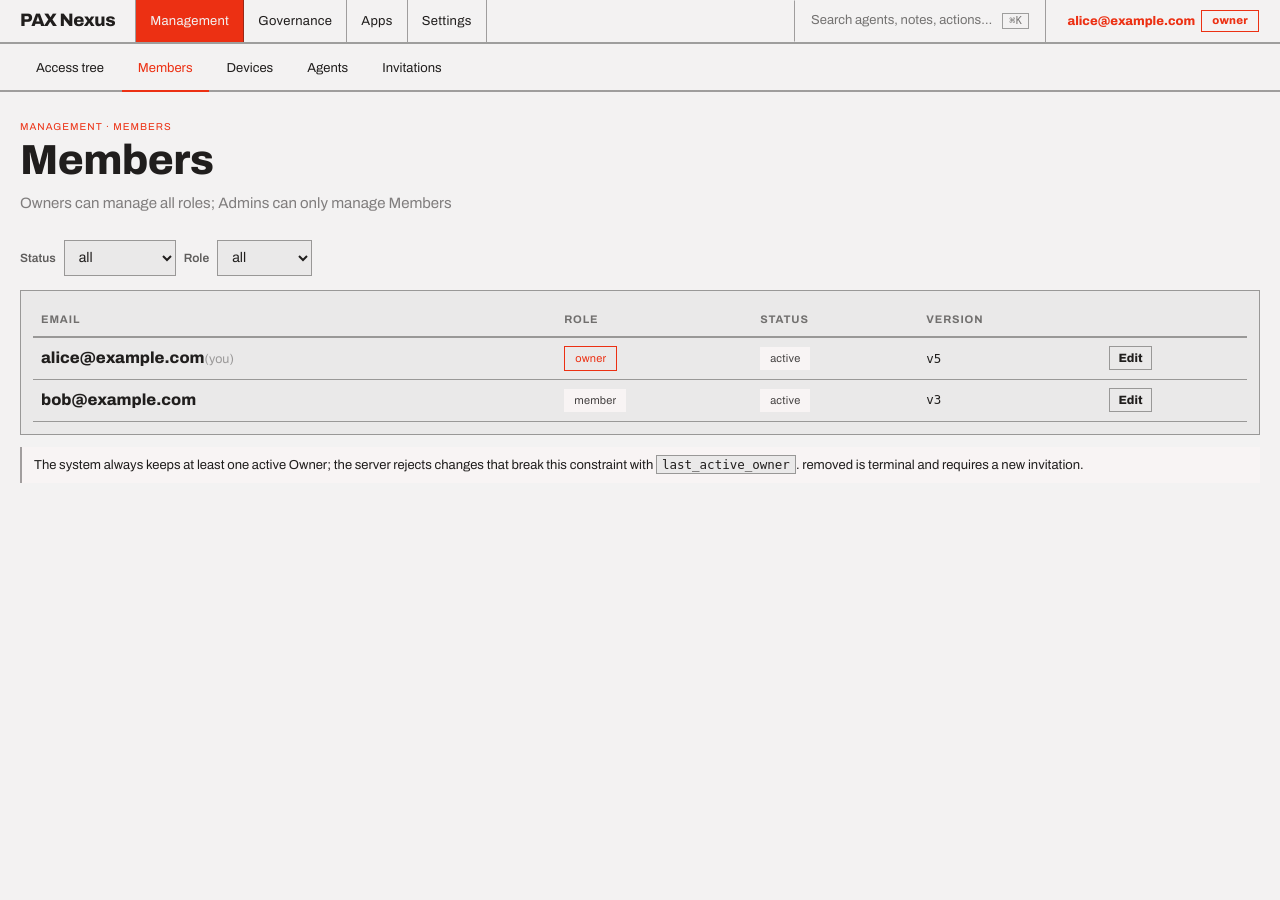
Test: section 10 item 8: last active owner protection › keeps the form and shows the server-side last_active_owner prompt
The width and height of the screenshot is (1280, 900).
Expected: the text "last_active_owner" is shown, [656, 455, 796, 474]
Click the button "Edit" in the row of "(you)": (1131, 358) [1110, 346, 1152, 370]
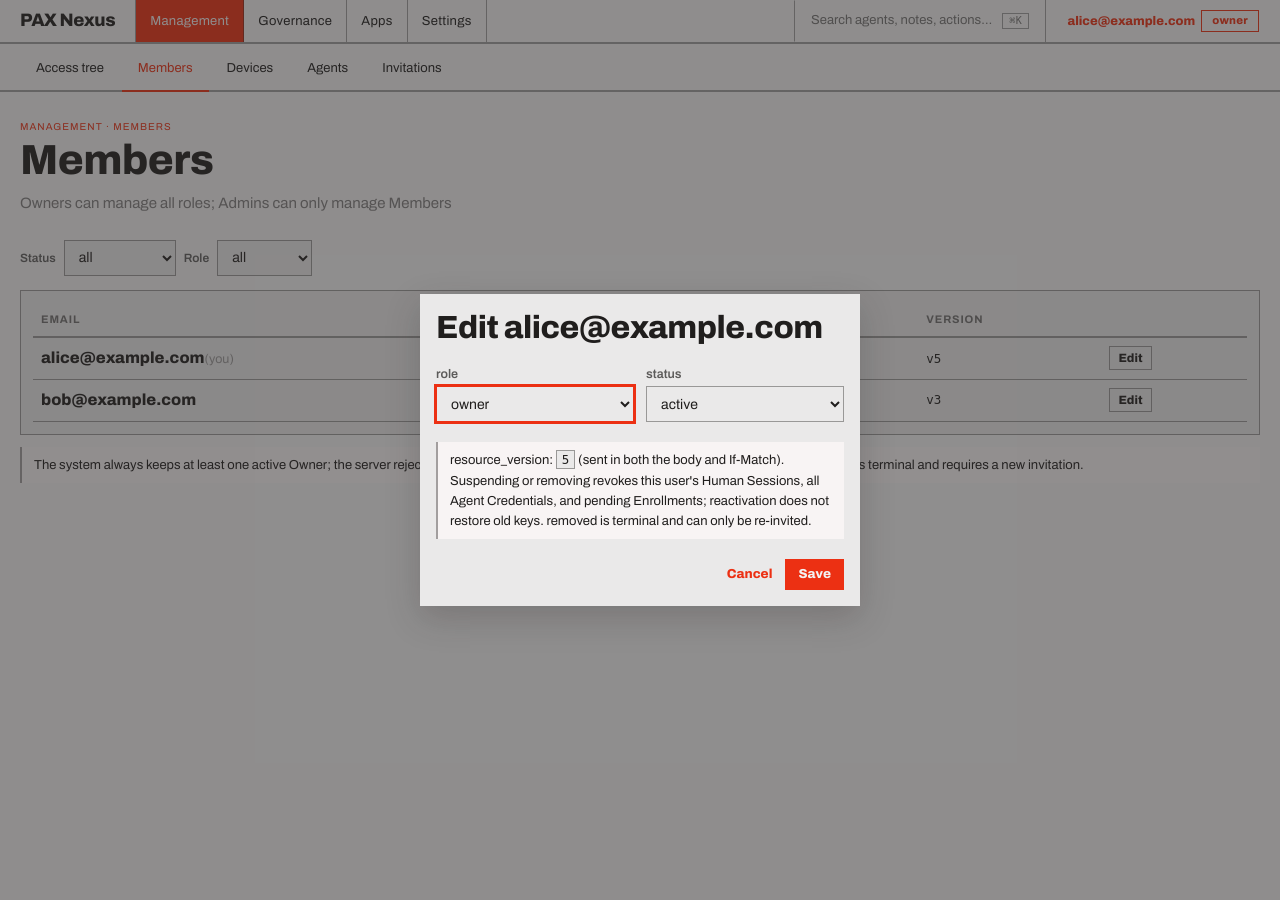
Now the heading "Edit alice@example.com" is shown, box [436, 310, 844, 346]
Select "admin" in the dropdown labelled "role": (535, 404) [436, 386, 634, 422]
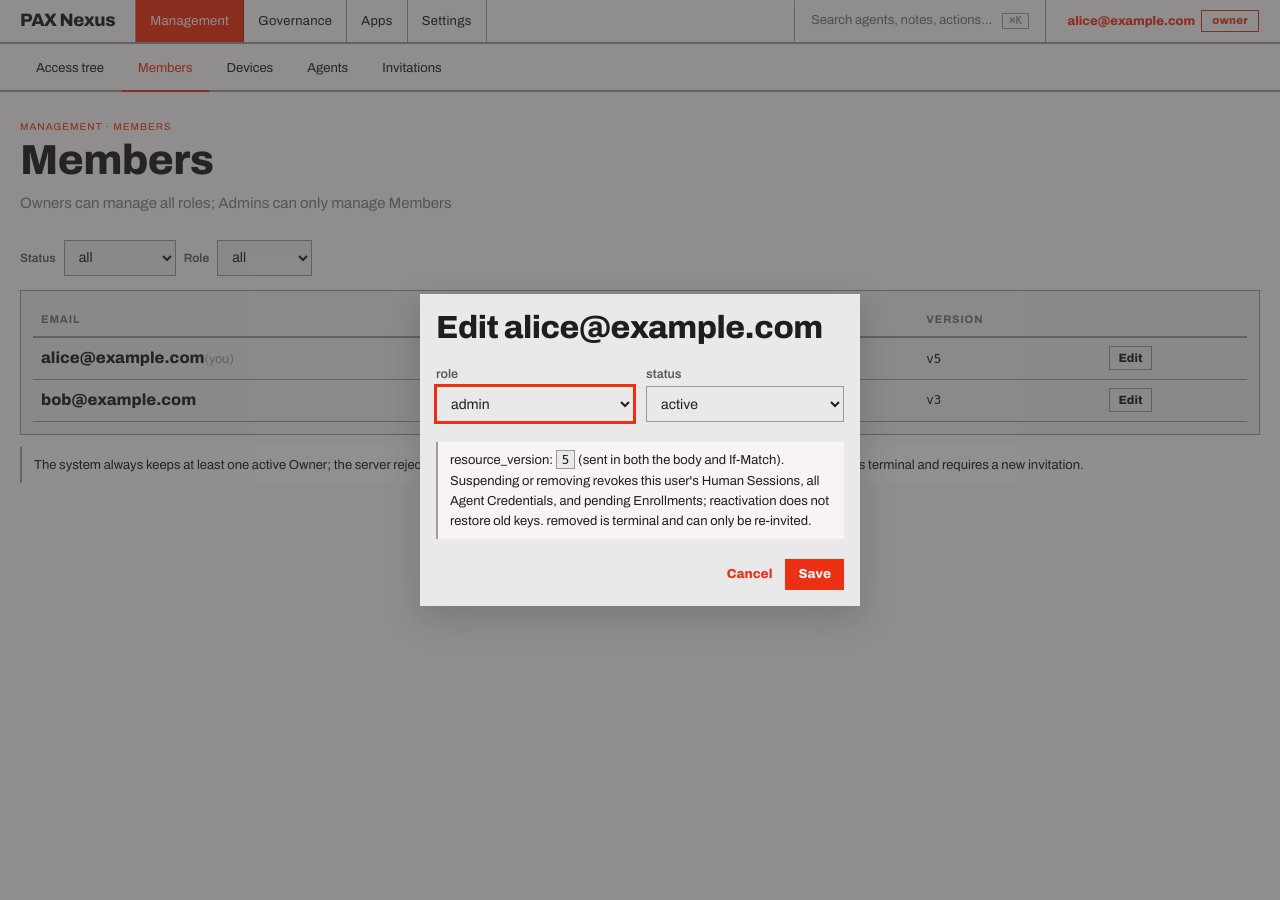
Click the button "Save": (815, 575) [785, 559, 844, 590]
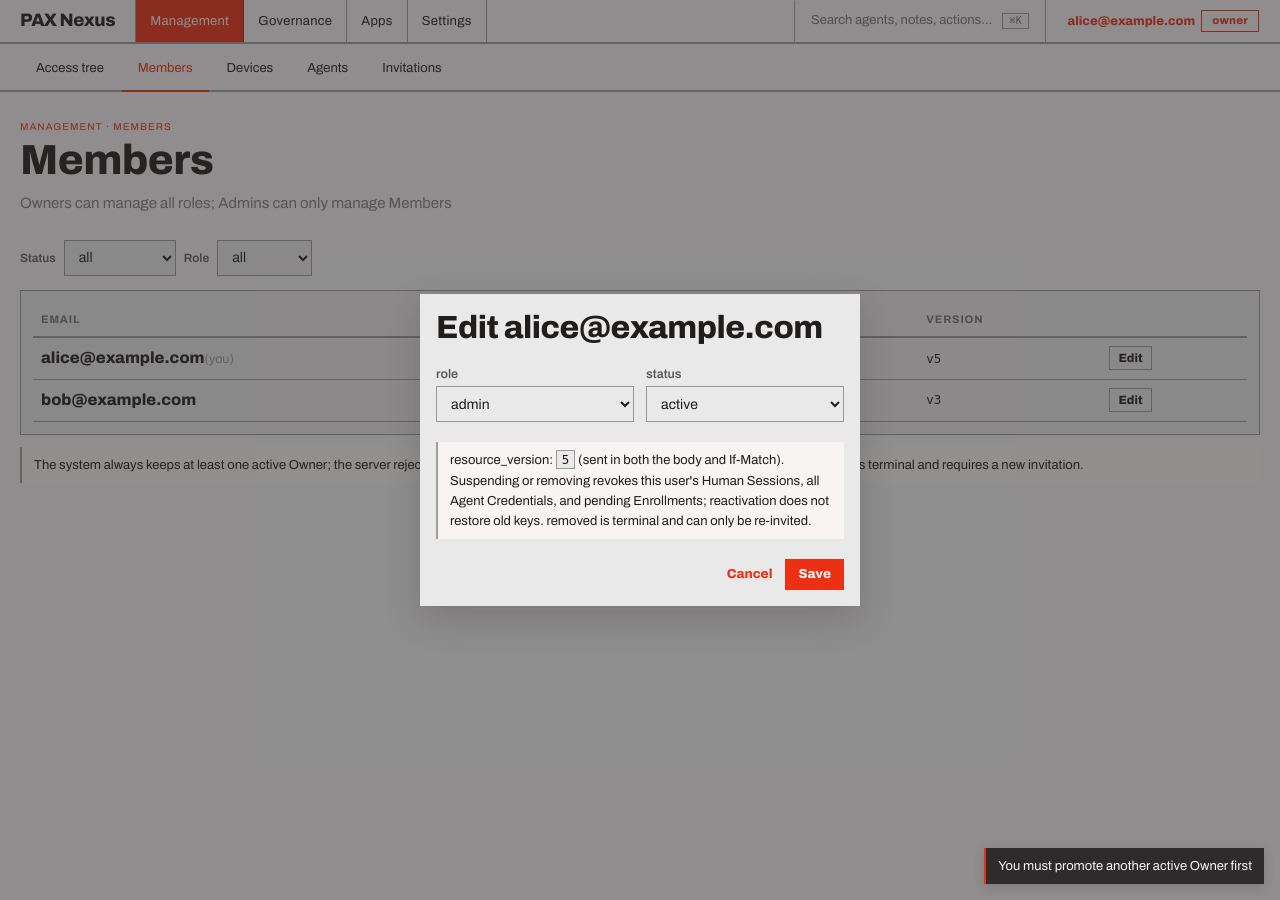
Now the heading "Edit alice@example.com" is shown, box [436, 310, 844, 346]
Now the text "You must promote another active Owner first" is shown, box [984, 848, 1264, 884]
